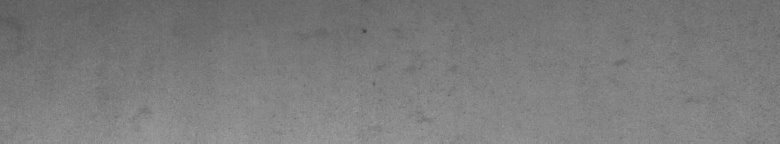ib: (362, 28, 456, 122)
